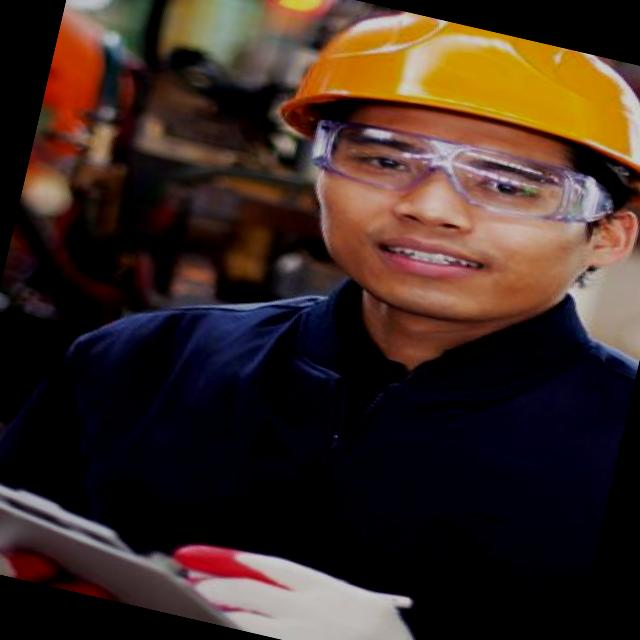goggles: (289, 95, 640, 246)
helmet: (243, 0, 640, 215)
no-vest: (21, 185, 640, 640)
